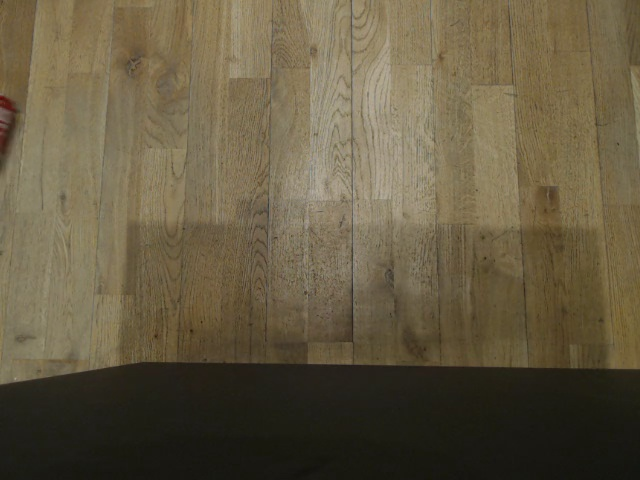coke: (0, 92, 17, 156)
